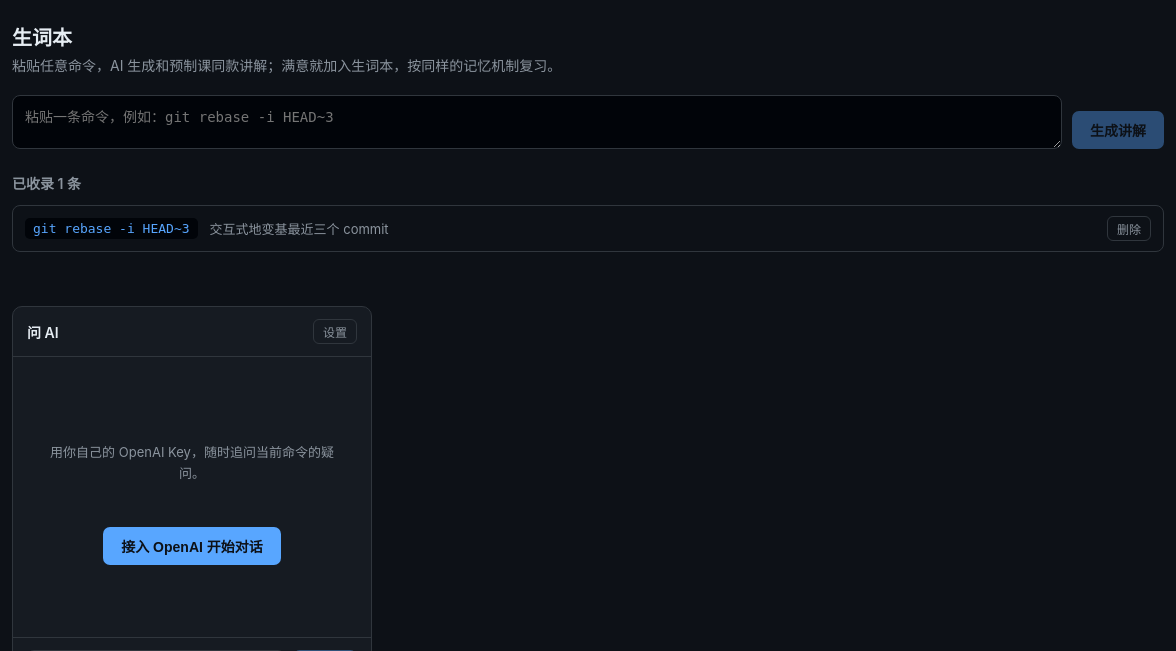
Scenario: VocabMode › asks the user to connect OpenAI when no key is configured
Type "git status" into the text box with placeholder "粘贴一条命令，例如：git rebase -i HEAD~3" at (537, 122), box [12,95,1062,149]
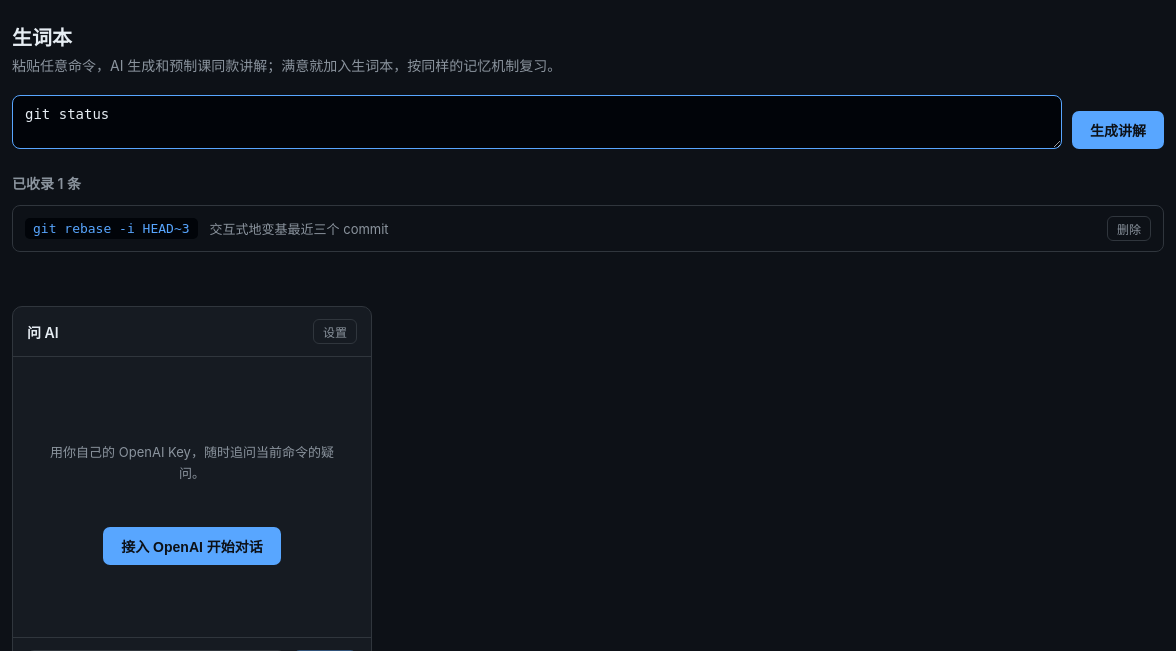
Click the button "生成讲解" at (1118, 130), box [1072,111,1164,149]
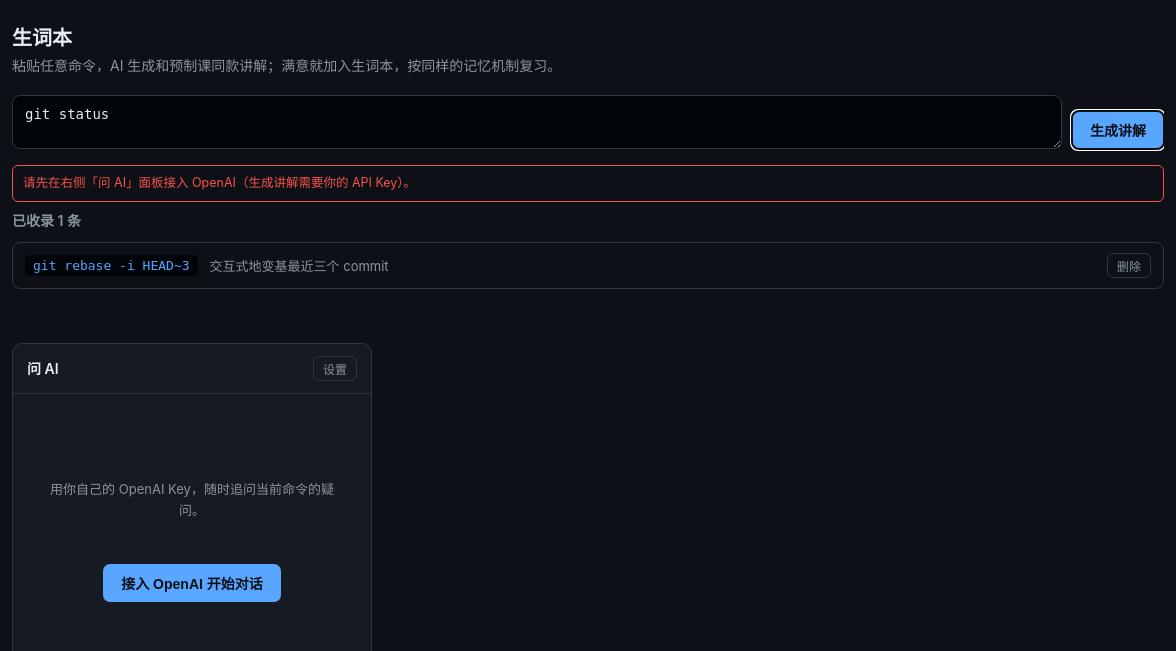
Now the text "请先在右侧「问 AI」面板接入 OpenAI（生成讲解需要你的 API Key）。" is shown, box [12,165,1164,202]
